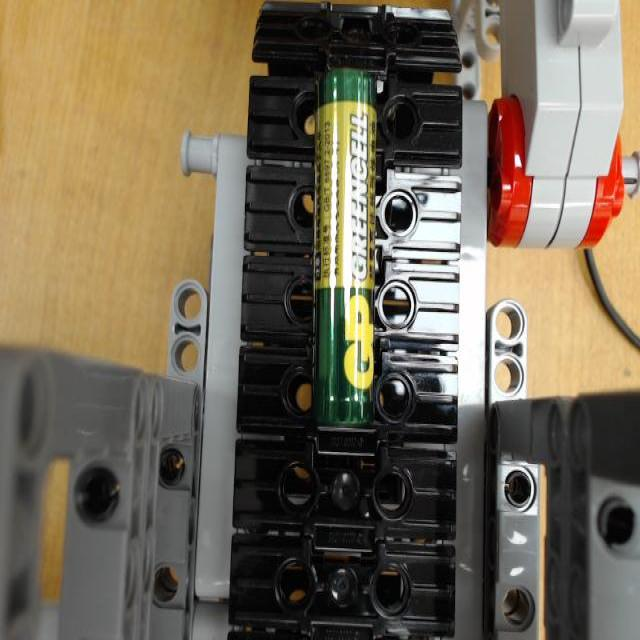AAA: (316, 69, 376, 428)
